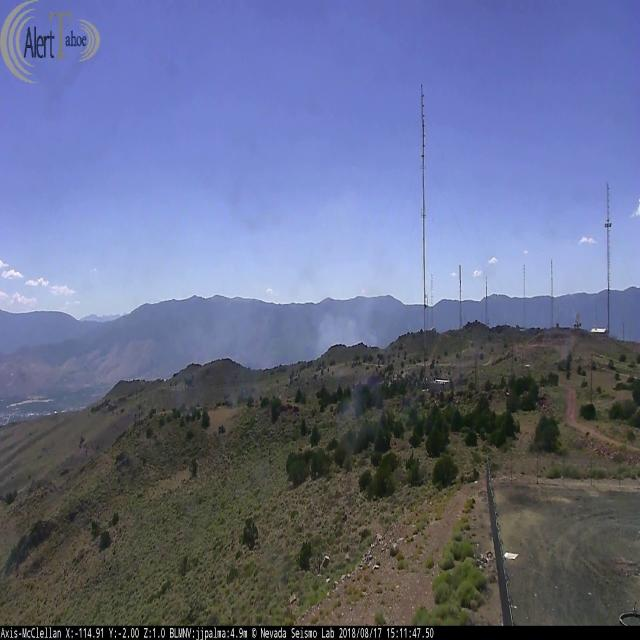smoke: (160, 34, 382, 369)
